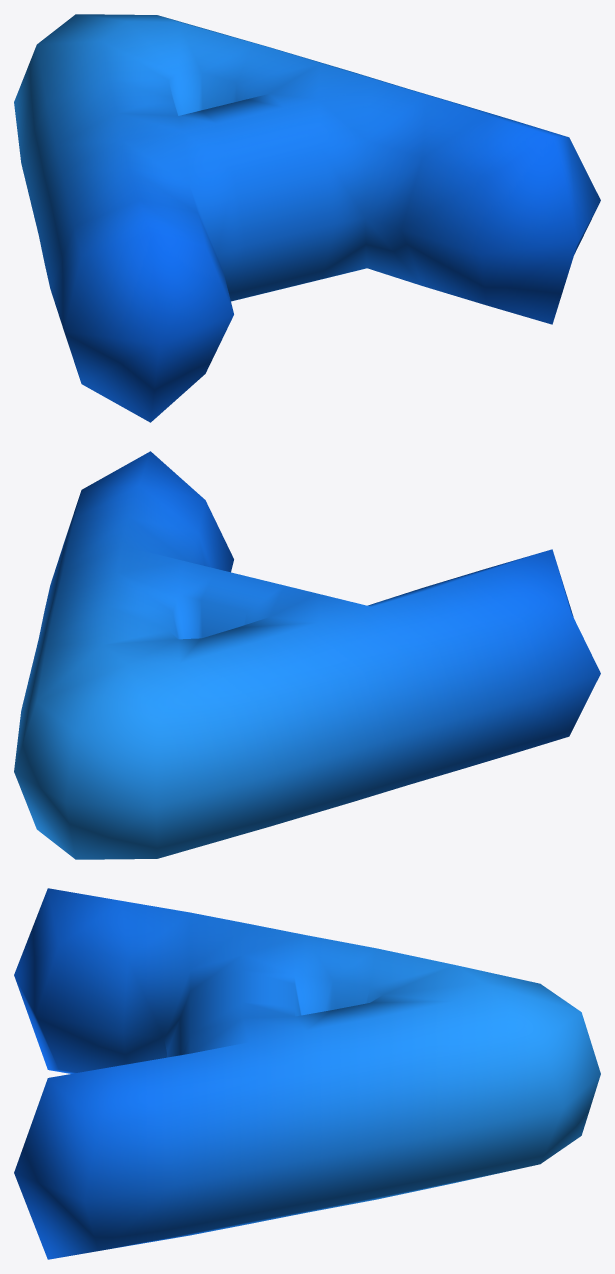
The model's file is CartoonFont_A.FBX.
The picture shows the model from 3 angles, top to bottom: view 1: azimuth 30°, elevation 25°; view 2: azimuth 150°, elevation 25°; view 3: azimuth 270°, elevation 25°; orthographic projection. The views are drawn at different scales.
Visible parts, largest first — view 1: A; view 2: A; view 3: A.
Boxes of the visible parts, x1,y1,x2,y2 form: A: [14, 14, 600, 422]; A: [14, 451, 600, 859]; A: [14, 888, 600, 1259].
Size of the model in its own units: 30.17 by 10.09 by 29.51.
Materials: 1 (1 with a texture image).
